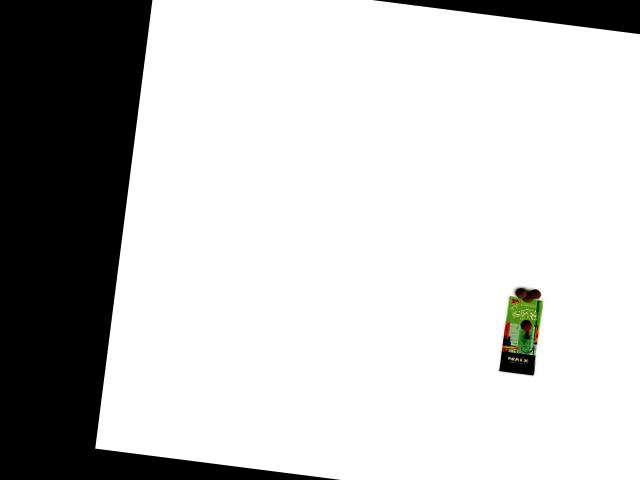chocolate: (493, 294, 551, 379)
